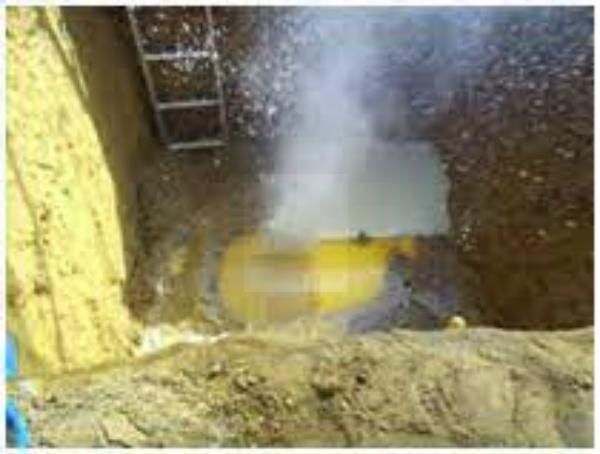pipe burst: (244, 8, 588, 266)
